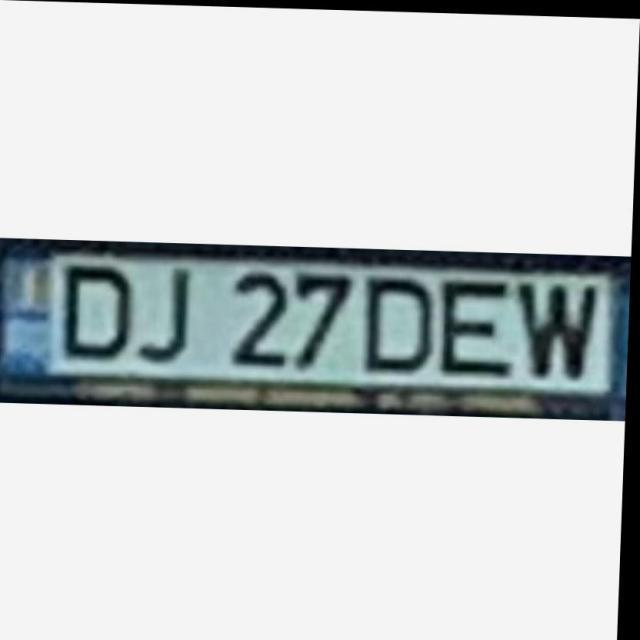license-plates: (0, 240, 630, 420)
